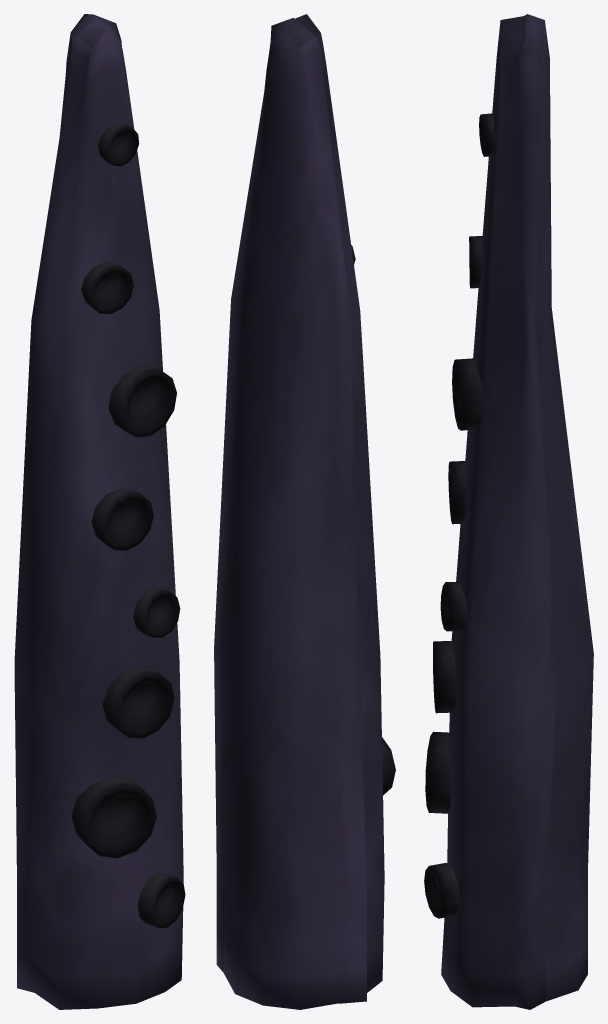
Rendered from TentaculoSkillSnare.fbx.
3 renders of one model, left to right at view 1: azimuth 30°, elevation 25°; view 2: azimuth 150°, elevation 25°; view 3: azimuth 270°, elevation 25°, orthographic.
Visible parts, largest first — view 1: TentaculoSkill.001; view 2: TentaculoSkill.001; view 3: TentaculoSkill.001.
Part boxes in pixels (x1,y1,x2,y2): TentaculoSkill.001: [14, 14, 185, 1009]; TentaculoSkill.001: [214, 14, 395, 1009]; TentaculoSkill.001: [424, 14, 593, 1009].
Size of the model in its own units: 451 by 2800 by 443.
